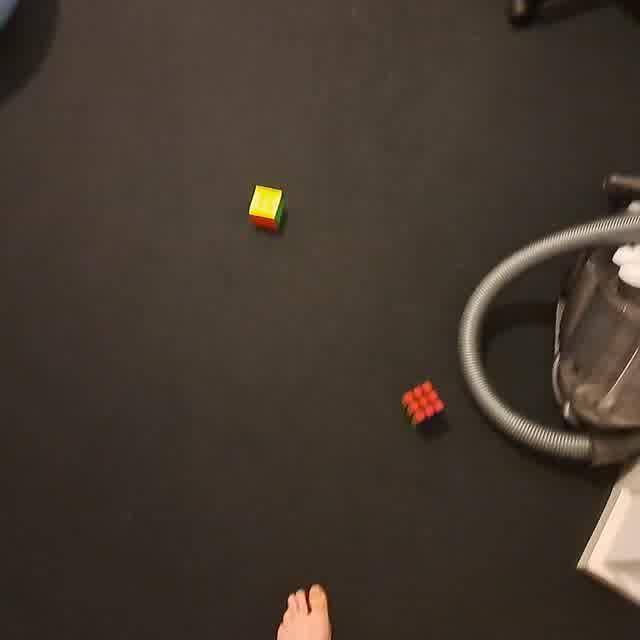rubix_cube: (399, 377, 447, 435), (247, 182, 288, 235)
